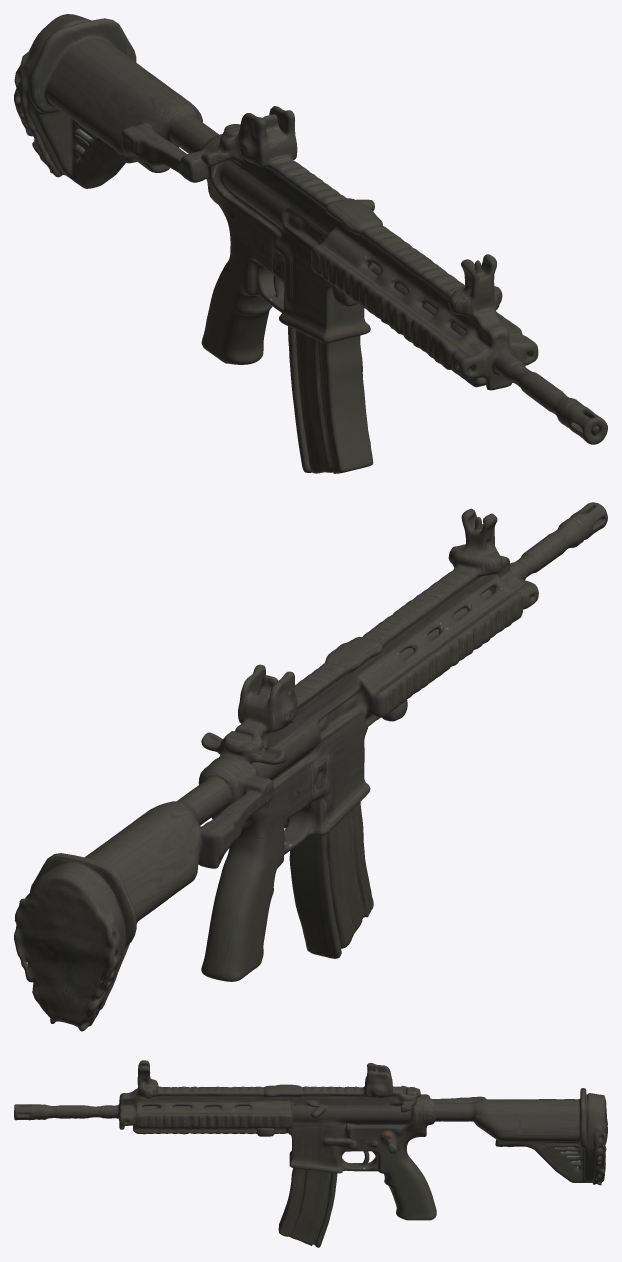
The picture shows the model from 3 angles, top to bottom: view 1: azimuth 30°, elevation 25°; view 2: azimuth 150°, elevation 25°; view 3: azimuth 270°, elevation 25°; orthographic projection. The views are drawn at different scales.
Parts seen in each view (by area): view 1: tripo_node_2e32851d; view 2: tripo_node_2e32851d; view 3: tripo_node_2e32851d.
Boxes of the visible parts, x1,y1,x2,y2 form: tripo_node_2e32851d: (14,14,607,473); tripo_node_2e32851d: (14,502,607,1031); tripo_node_2e32851d: (14,1060,607,1247).
Size of the model in its own units: 11.35 by 33.66 by 99.97.
1 material, 1 textured.
